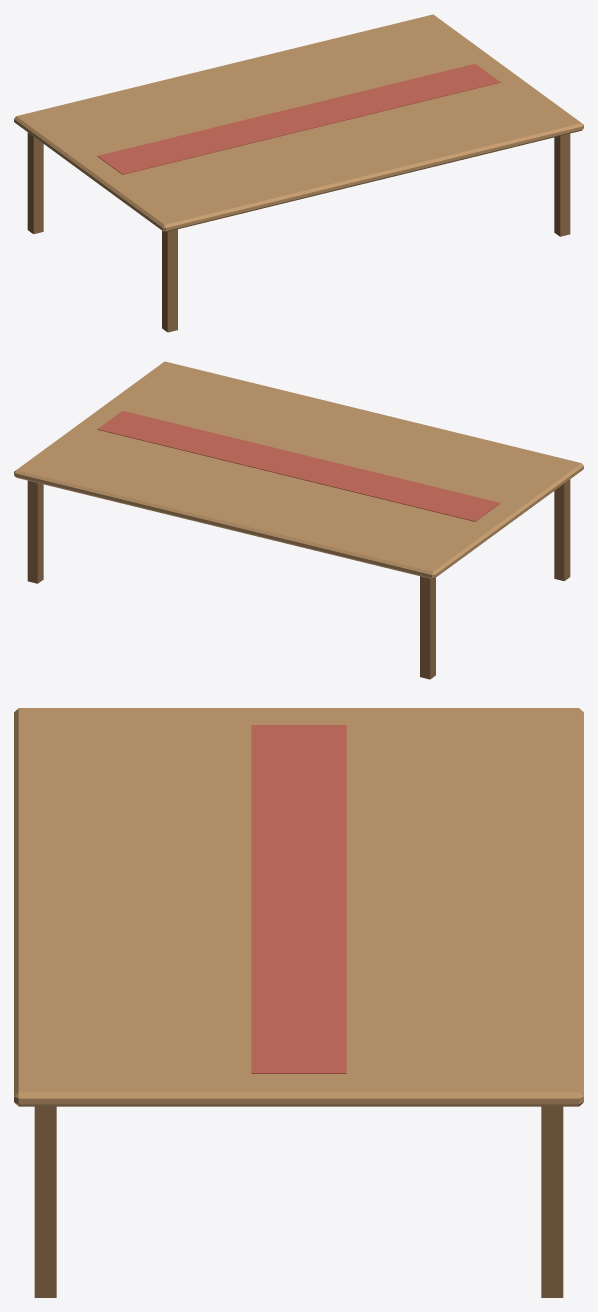
File: dining_table.glb
3 renders of one model, top to bottom at view 1: azimuth 30°, elevation 25°; view 2: azimuth 150°, elevation 25°; view 3: azimuth 270°, elevation 25°, orthographic. The views are drawn at different scales.
Parts seen in each view (by area): view 1: dining_table_mesh; view 2: dining_table_mesh; view 3: dining_table_mesh.
Part boxes in pixels (x1=…): dining_table_mesh: x1=14, y1=14, x2=583, y2=332; dining_table_mesh: x1=14, y1=361, x2=583, y2=679; dining_table_mesh: x1=14, y1=708, x2=583, y2=1297.
Bounding box in the file's own units: 2.9 × 0.744 × 1.8.
